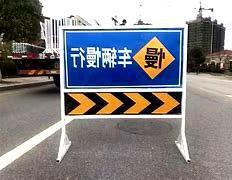sign: (60, 28, 184, 117)
